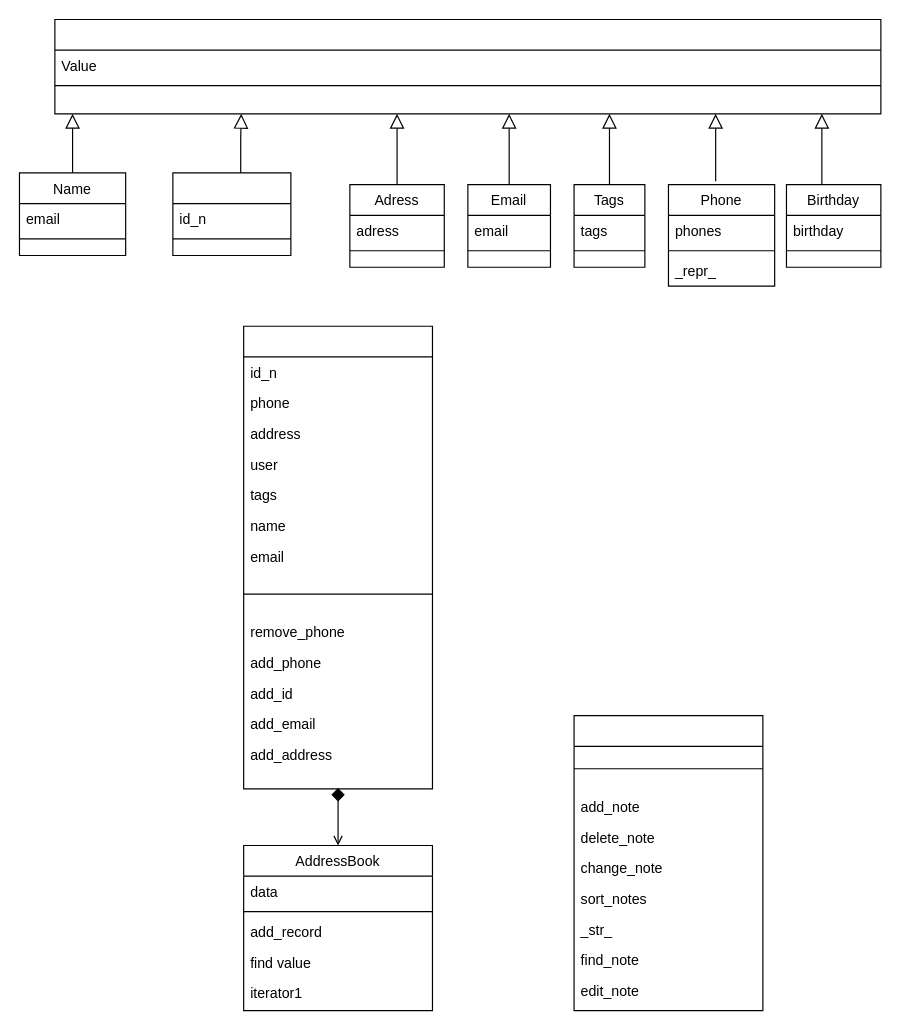
Some shapes in this 900 by 1030 pixel diagram are drawn without their labels. The shapes that lost their labels are listed below. From the top down, each one's box as (x1, y1, x2, y2) in pixels, then its label:
(54, 18, 881, 114): Field
(172, 172, 291, 255): Id
(242, 325, 432, 789): Record
(573, 714, 763, 1011): NotesBook(UserList)
